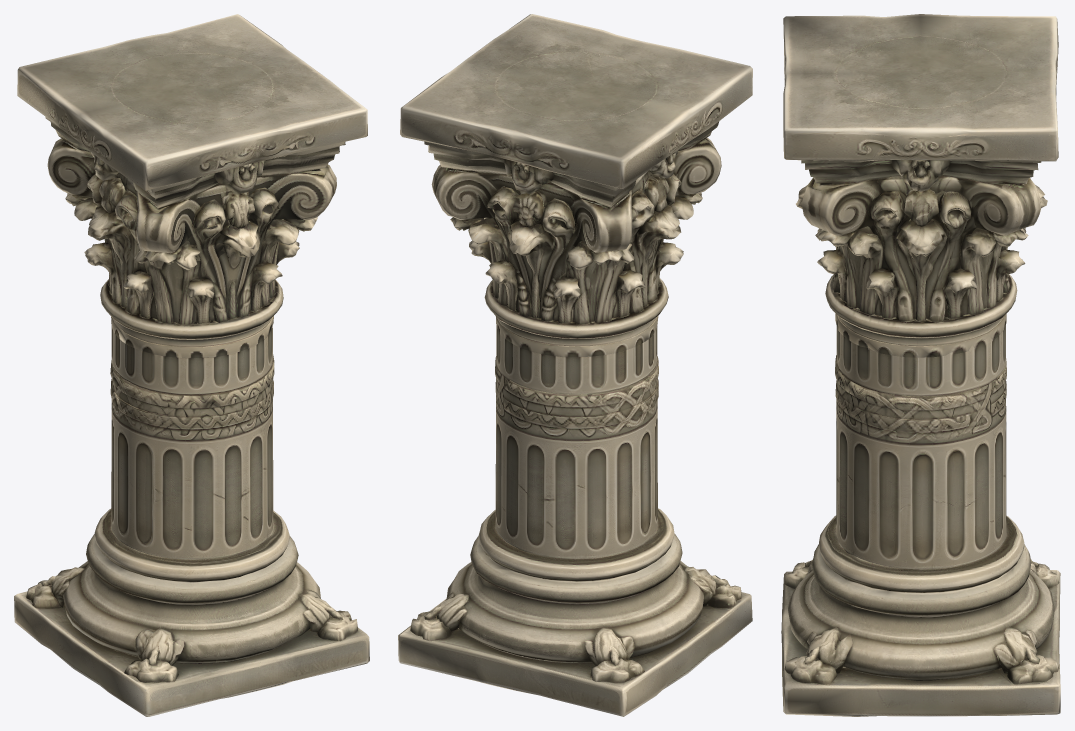
The model's file is Meshy_AI_Corinthian_Column_0721143532_texture.fbx.
3 renders of one model, left to right at view 1: azimuth 30°, elevation 25°; view 2: azimuth 150°, elevation 25°; view 3: azimuth 270°, elevation 25°, orthographic. The views are drawn at different scales.
Parts seen in each view (by area): view 1: mesh_node; view 2: mesh_node; view 3: mesh_node.
Boxes of the visible parts, bbox=[...] form: mesh_node: bbox=[14, 14, 369, 716]; mesh_node: bbox=[398, 14, 752, 716]; mesh_node: bbox=[781, 14, 1060, 716].
Size of the model in its own units: 43.16 by 99.61 by 42.87.
Materials: 1 (1 with a texture image).
